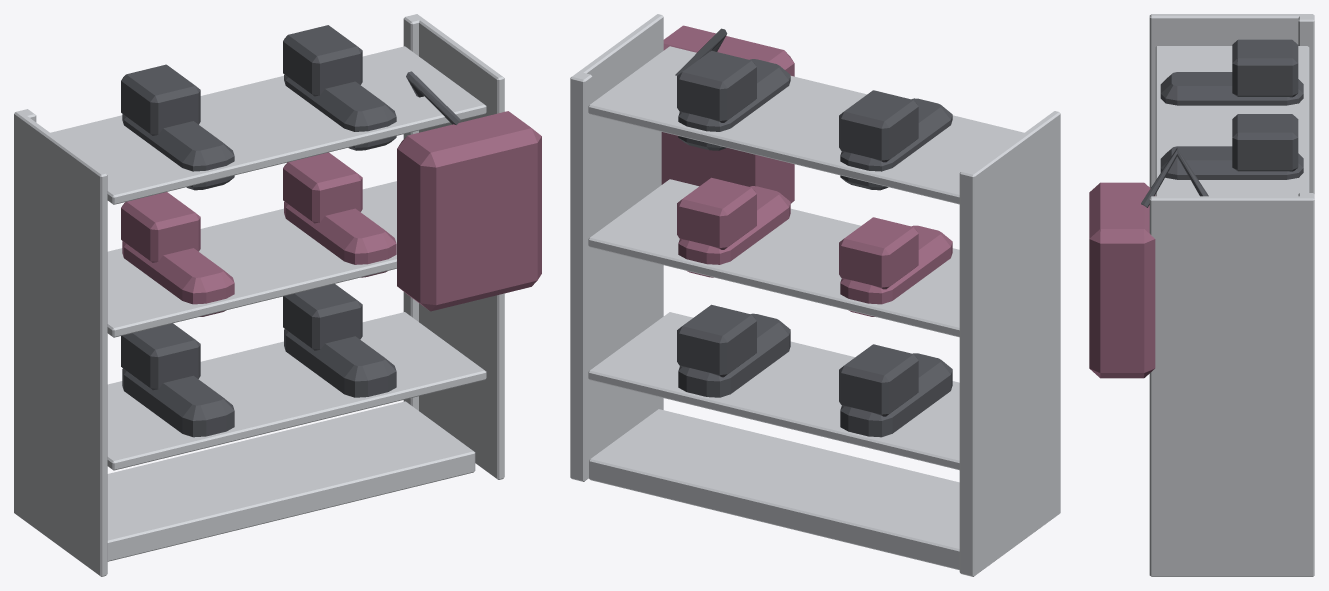
File: shoeRack.glb
3 views of the same model, side by side, from view 1: azimuth 30°, elevation 25°; view 2: azimuth 150°, elevation 25°; view 3: azimuth 270°, elevation 25° (orthographic). The views are drawn at different scales.
Parts seen in each view (by area): view 1: shoe-rack; view 2: shoe-rack; view 3: shoe-rack.
Part boxes in pixels (x1=…): shoe-rack: x1=14, y1=14, x2=541, y2=576; shoe-rack: x1=570, y1=14, x2=1060, y2=576; shoe-rack: x1=1089, y1=14, x2=1314, y2=576.
Size of the model in its own units: 0.82 by 0.8 by 0.41.
